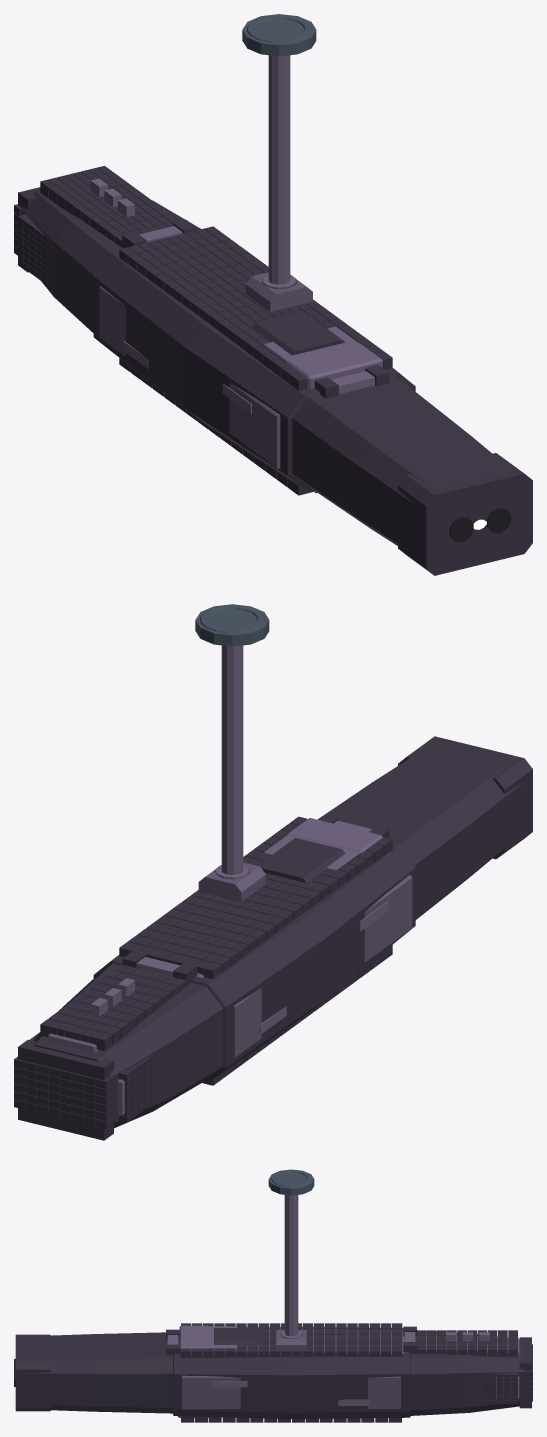
3 renders of one model, top to bottom at view 1: azimuth 30°, elevation 25°; view 2: azimuth 150°, elevation 25°; view 3: azimuth 270°, elevation 25°, orthographic. The views are drawn at different scales.
Visible parts, largest first — view 1: RIMWARD_HULL; view 2: RIMWARD_HULL; view 3: RIMWARD_HULL.
Part boxes in pixels (x1=…): RIMWARD_HULL: x1=14, y1=14, x2=532, y2=575; RIMWARD_HULL: x1=14, y1=604, x2=532, y2=1140; RIMWARD_HULL: x1=14, y1=1169, x2=532, y2=1422.
Size of the model in its own units: 1.32 by 3.45 by 6.83.
